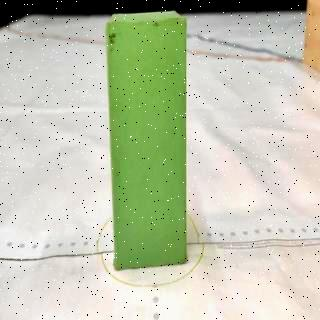greenbox: (104, 11, 188, 272)
